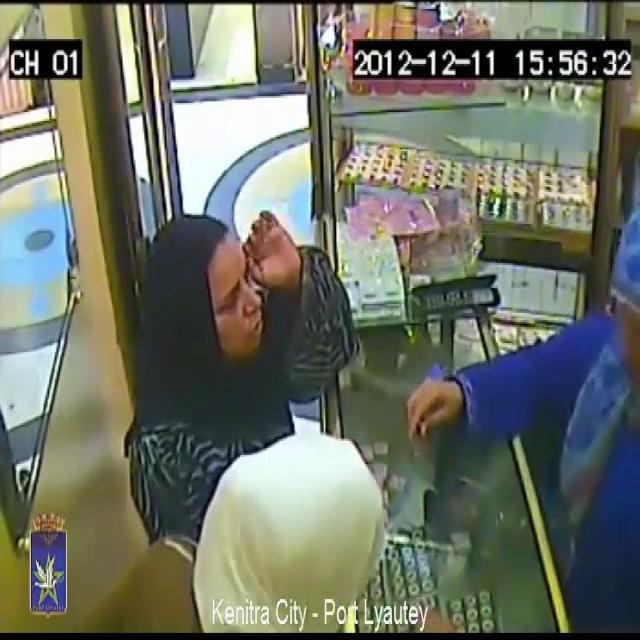Product: (416, 406, 432, 452)
normal: (159, 399, 391, 640), (173, 185, 290, 402)
shoplifting: (392, 160, 640, 628)
